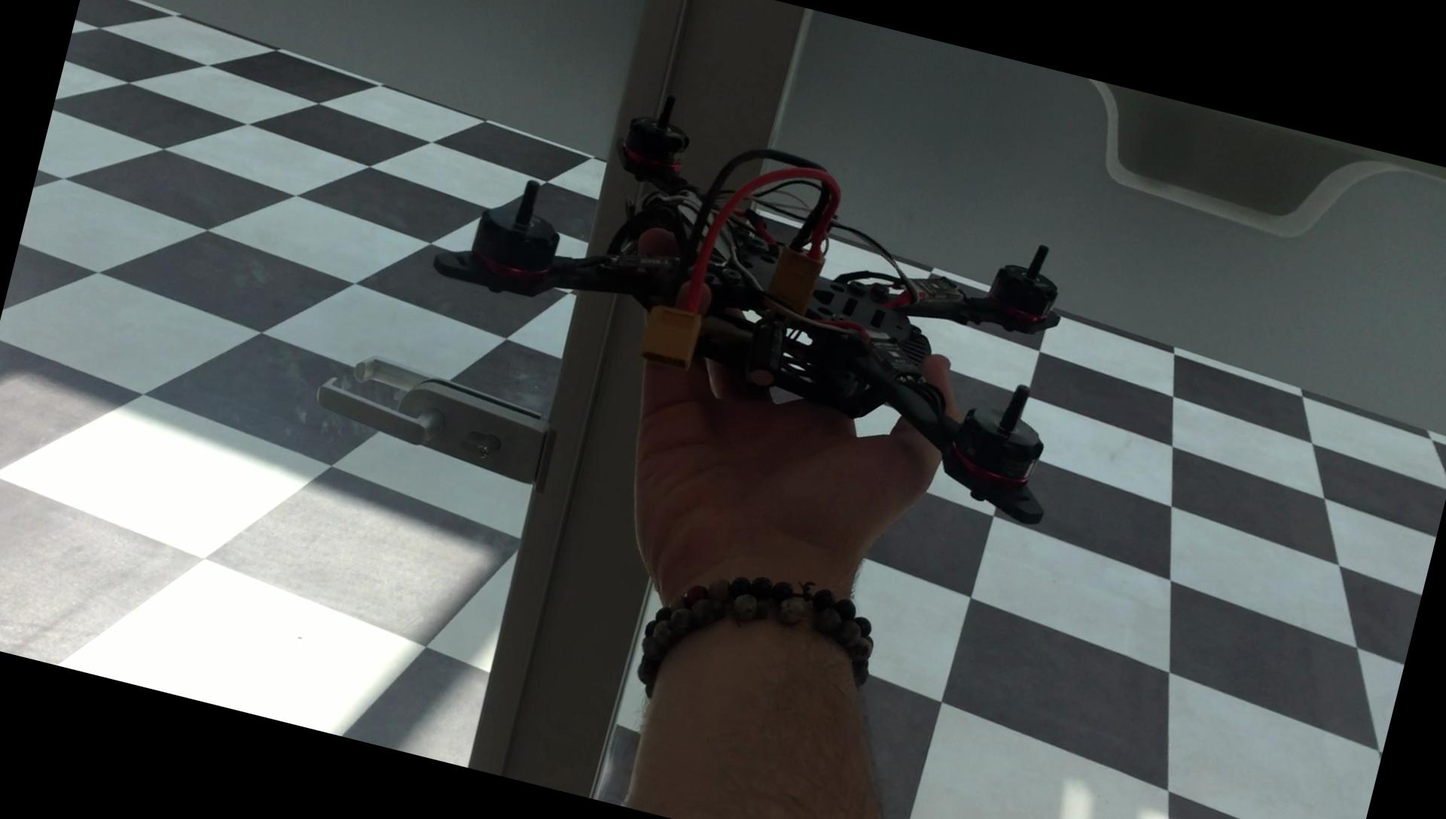drone: (389, 47, 1137, 540)
